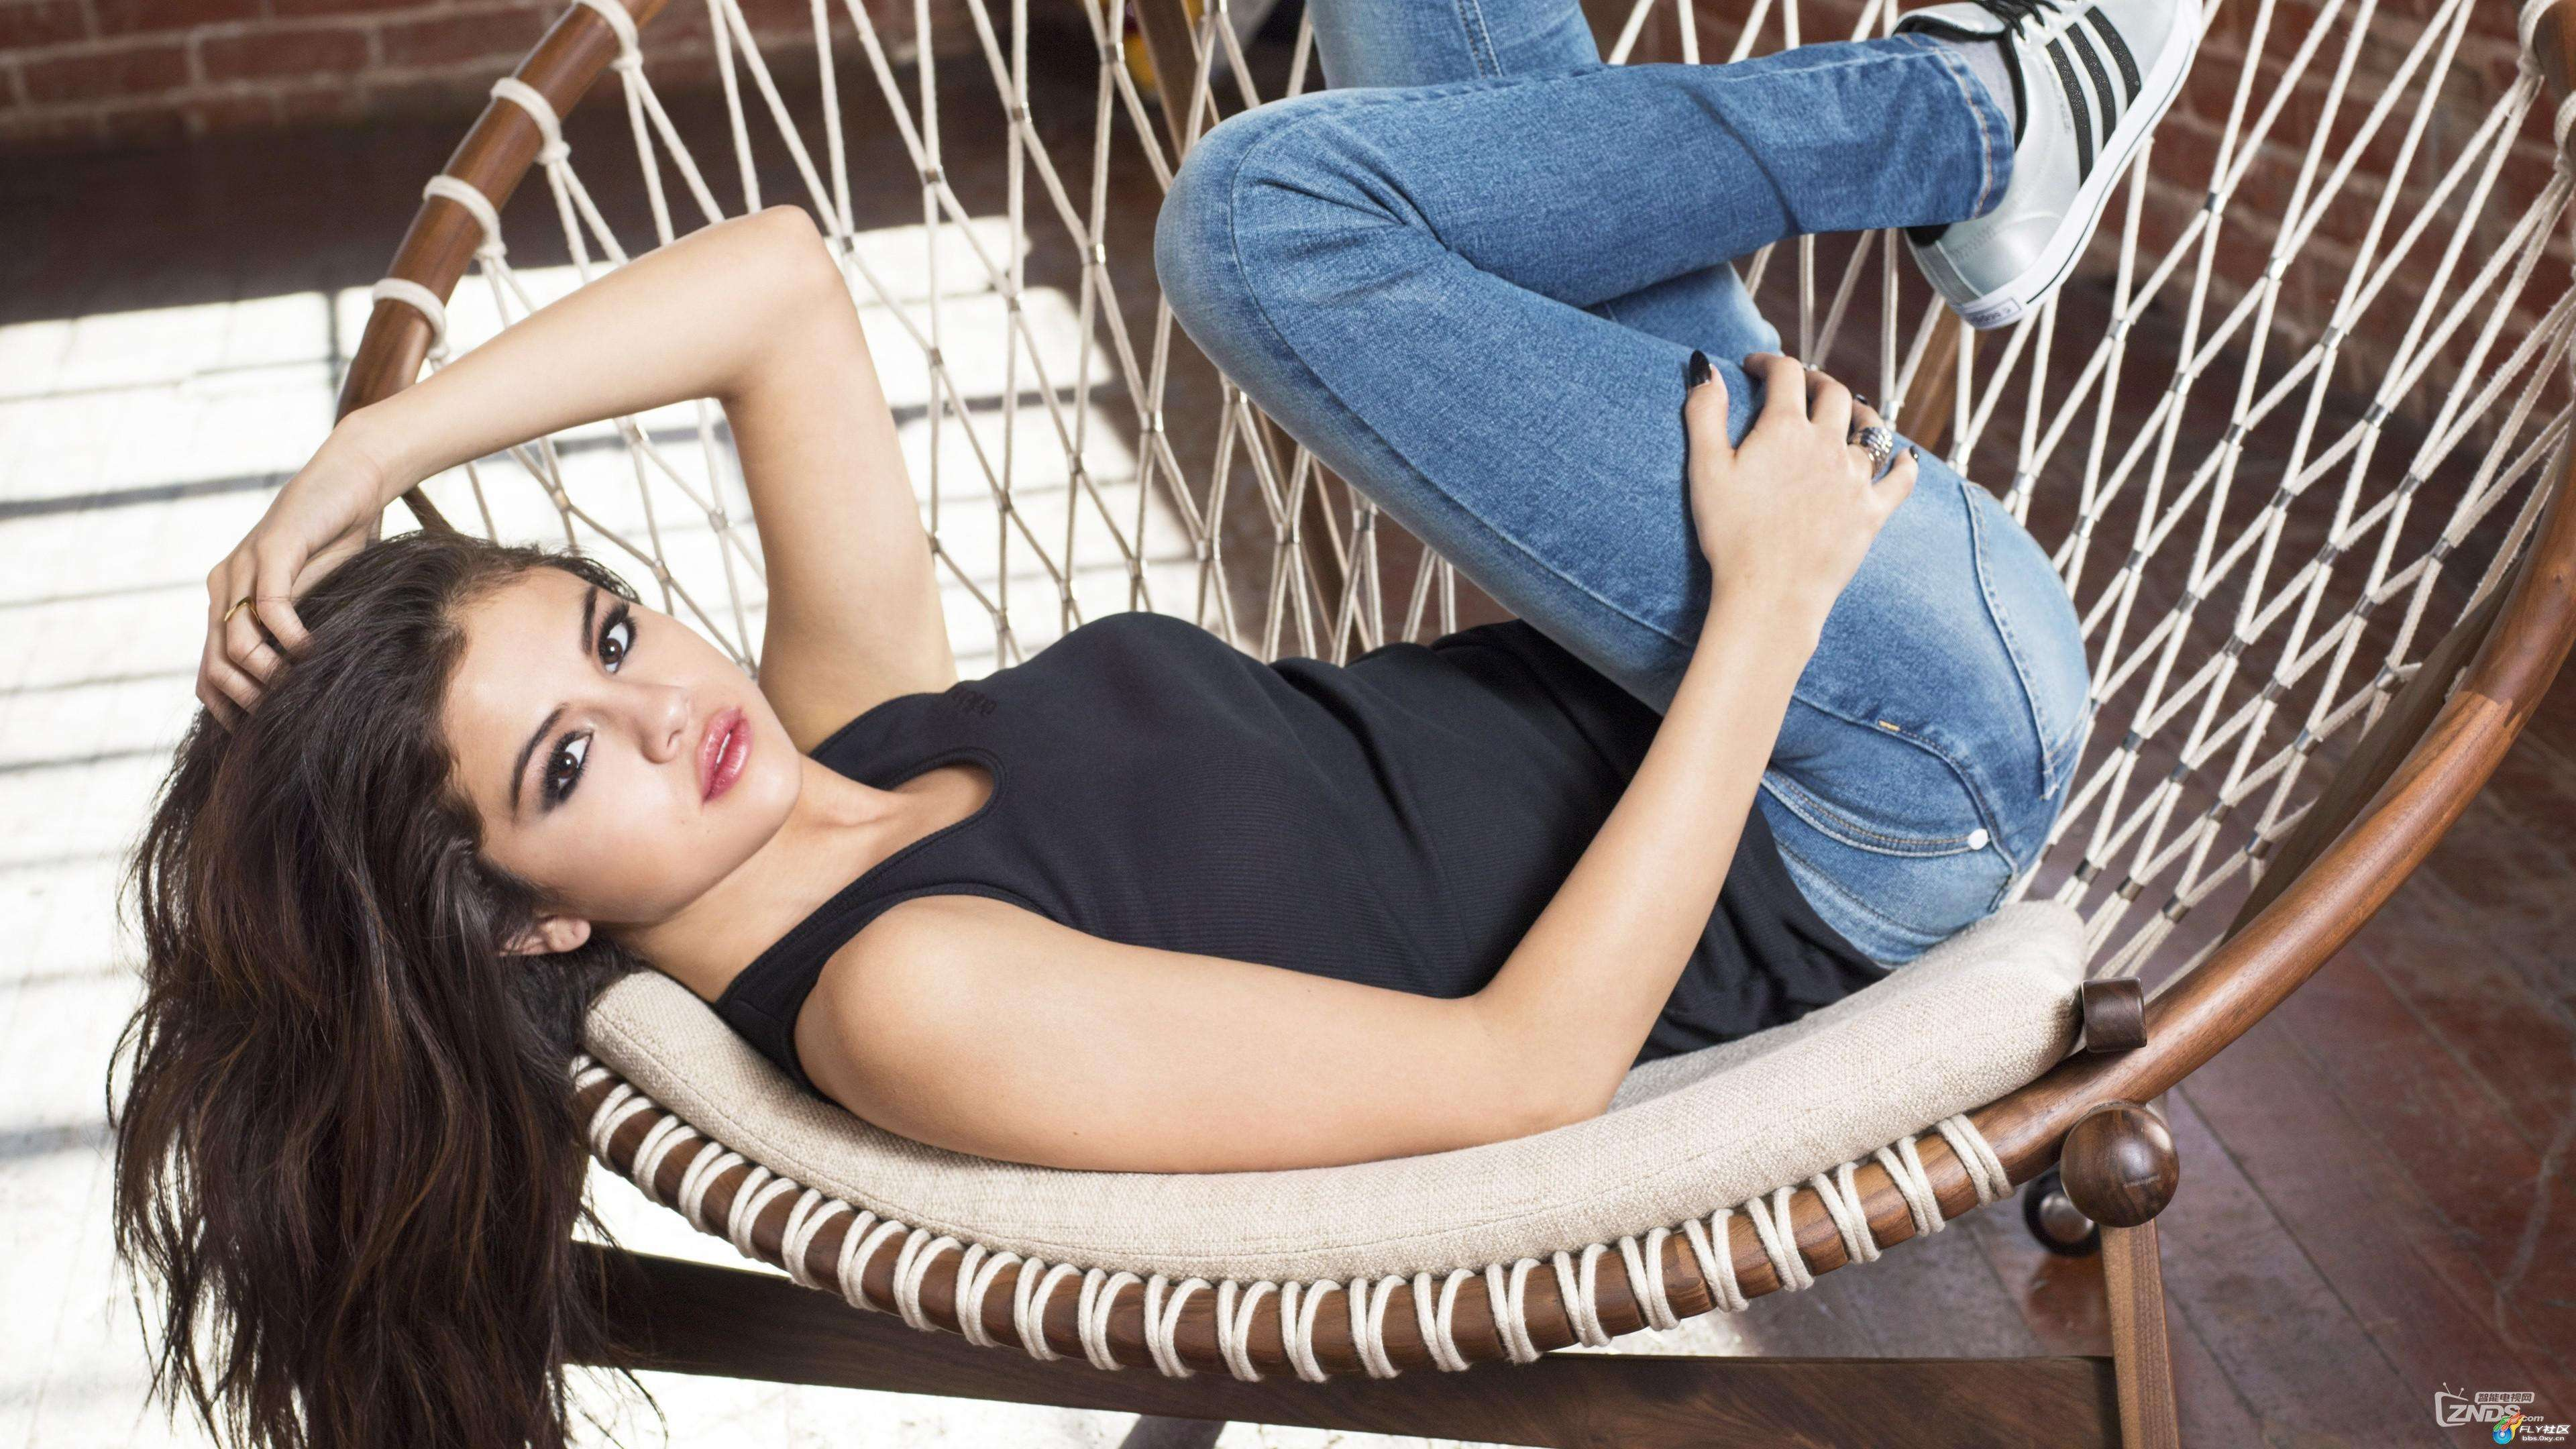person: (54, 262, 2150, 1134)
